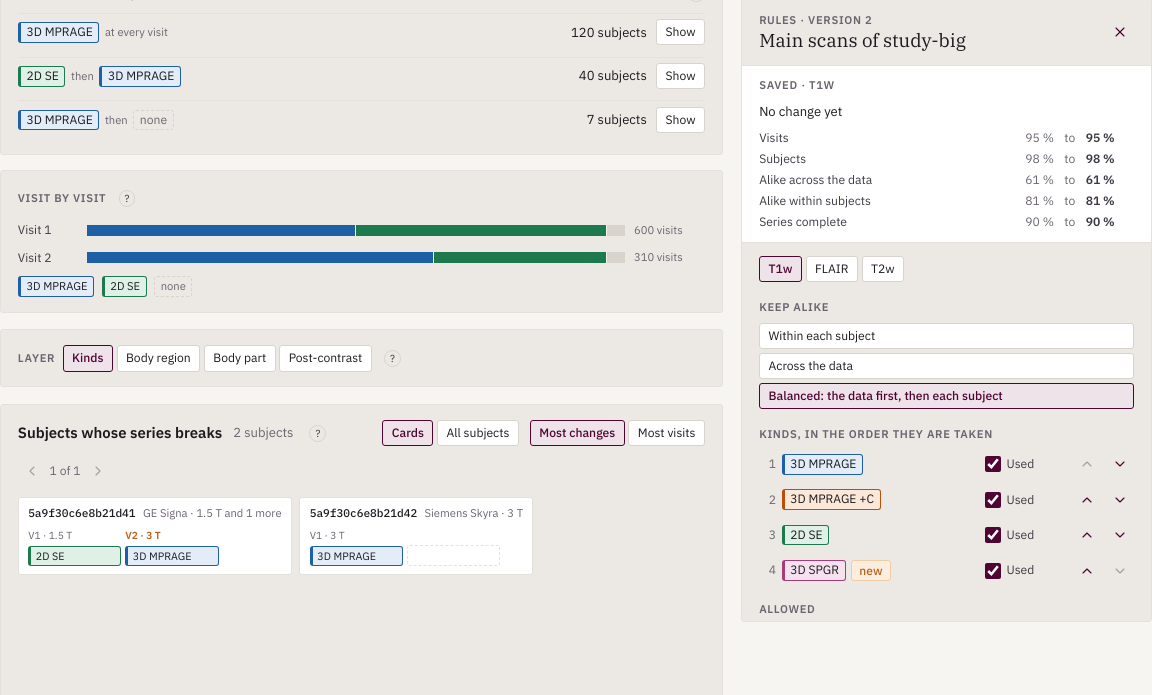
Test: Main scans' layers › runs the step on a dataset's own door for a dataset's page, by the name the engine gave it
This screenshot has width=1152, height=695.
(page scrolled)
Click the button "Post-contrast".
click(326, 358)  # box [279,345,372,372]
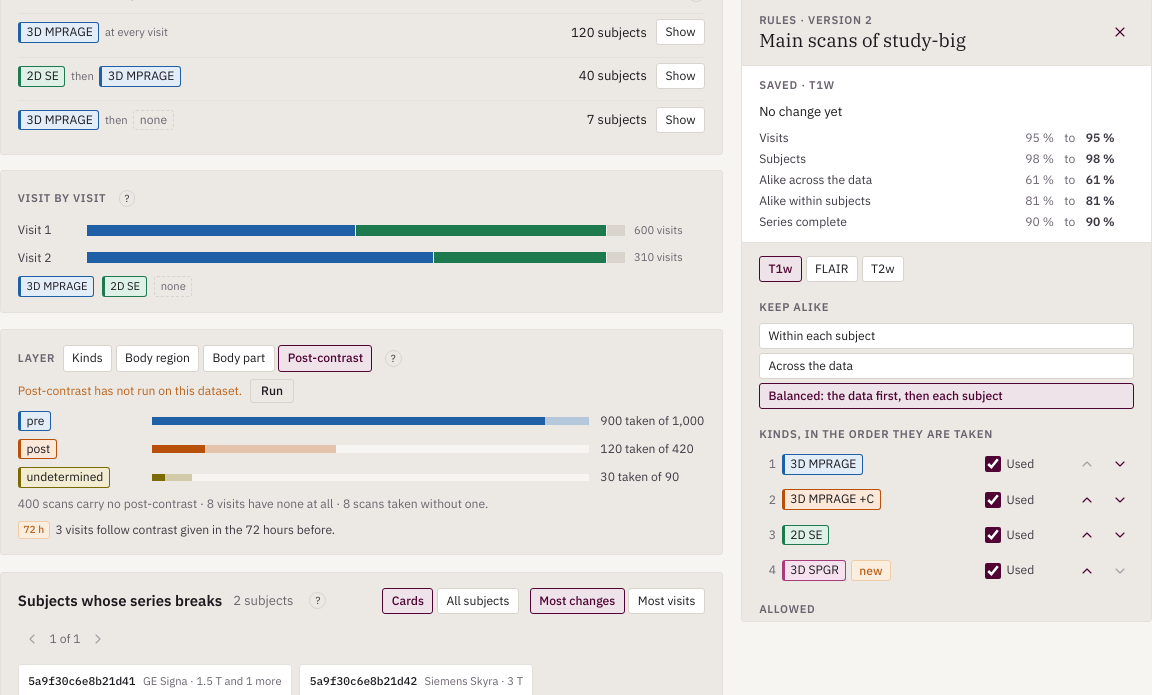
Result: the text with class "ms-layer-said" reads "Post-contrast has not run on this dataset." at [18,383,242,398]
Click the button "Run".
click(272, 391)  # box [250,379,294,403]
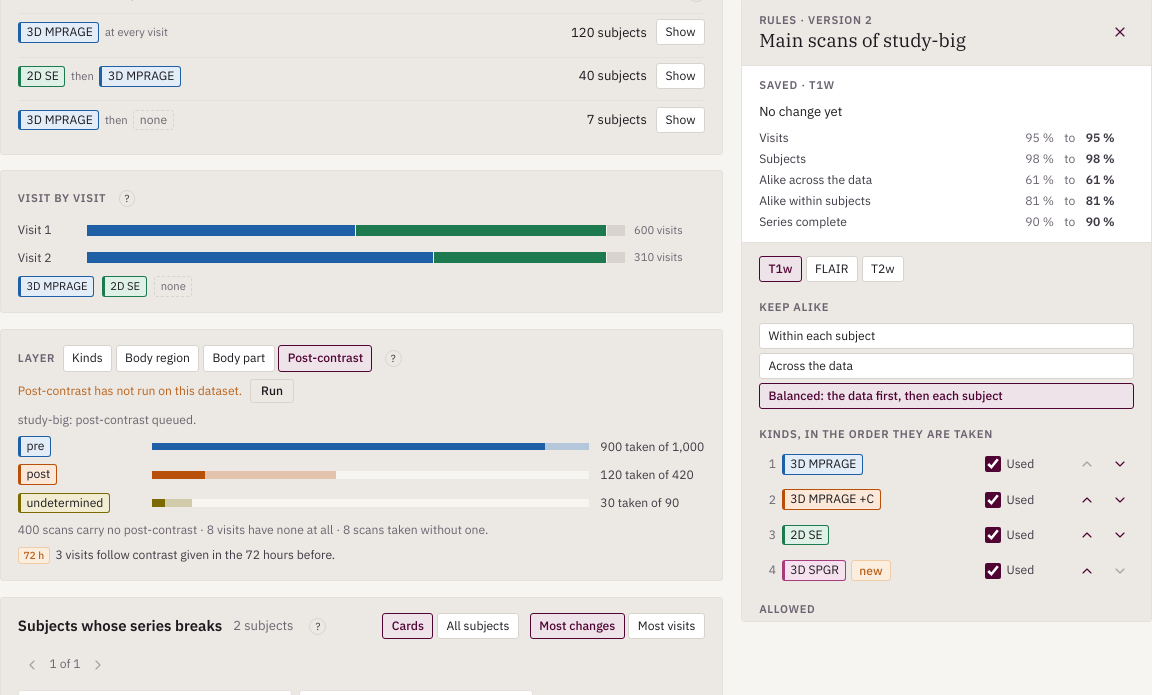
Result: the message with class "ms-said" reads "study-big: post-contrast queued." at [18,412,196,427]
